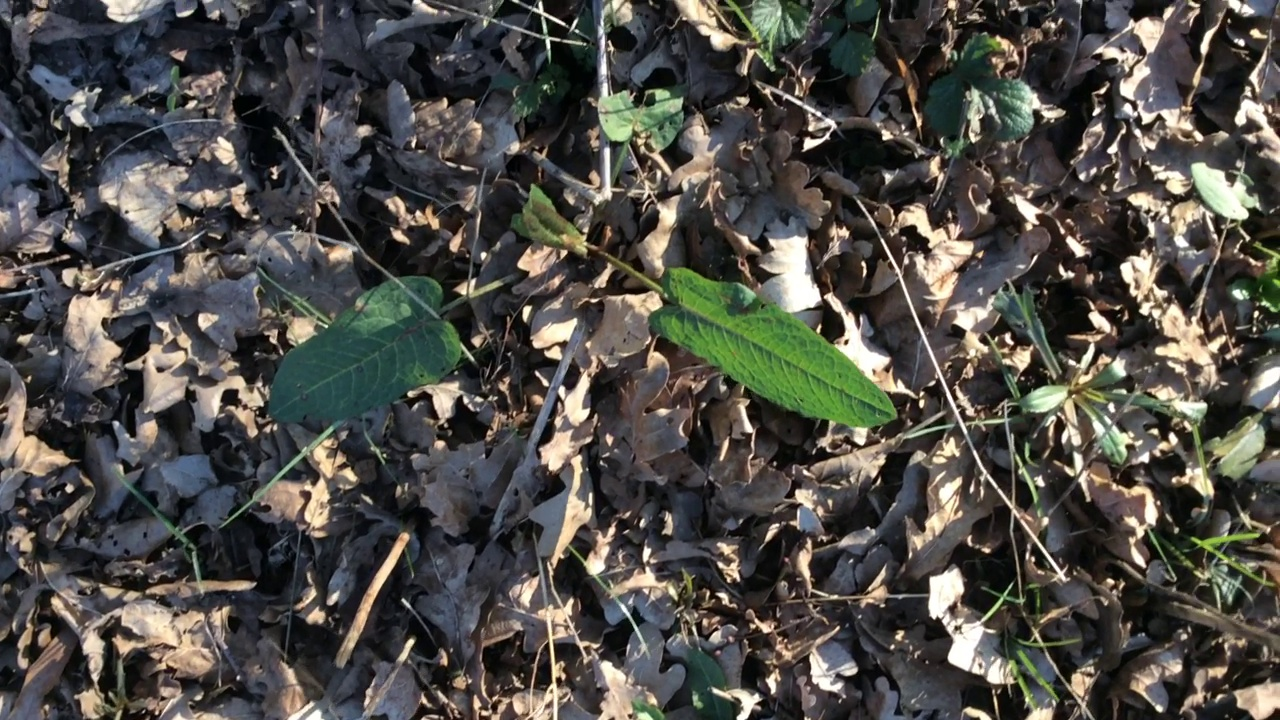rumex: (269, 86, 898, 429)
